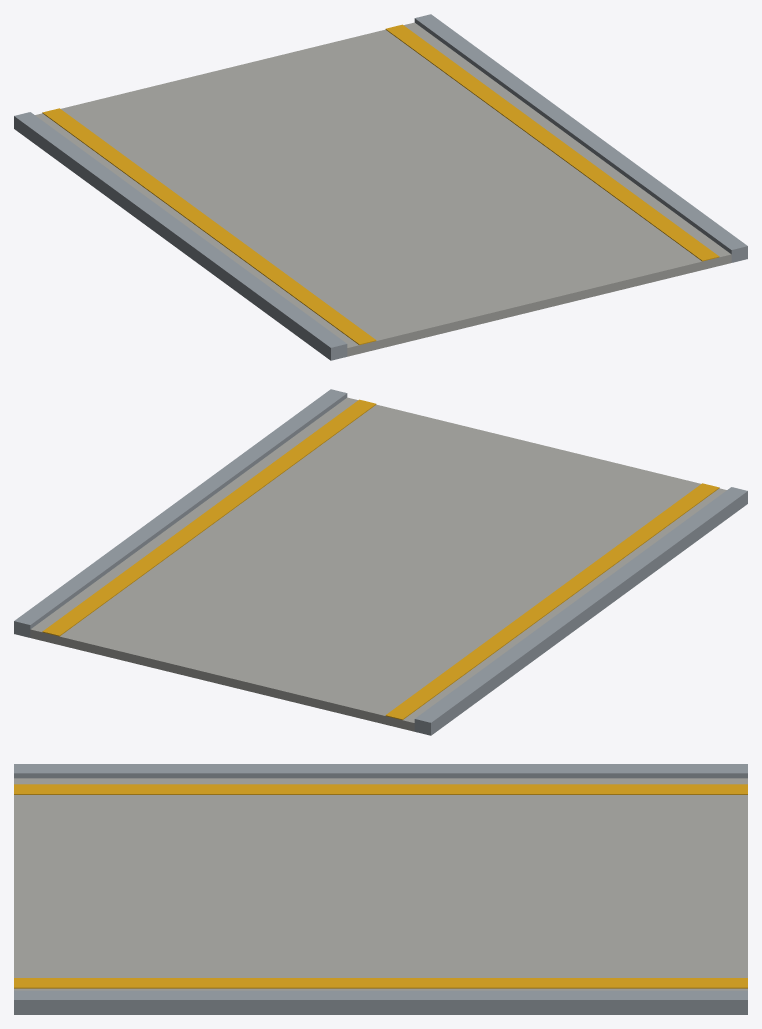
Rendered from road_industrial_viii_straight_lod1.glb.
3 renders of one model, top to bottom at view 1: azimuth 30°, elevation 25°; view 2: azimuth 150°, elevation 25°; view 3: azimuth 270°, elevation 25°, orthographic. The views are drawn at different scales.
Visible parts, largest first — view 1: body; view 2: body; view 3: body.
Part boxes in pixels (x1,y1,x2,y2): body: (14, 14, 747, 360); body: (14, 389, 747, 735); body: (14, 764, 747, 1014).
Size of the model in its own units: 6.08 by 0.18 by 8.
